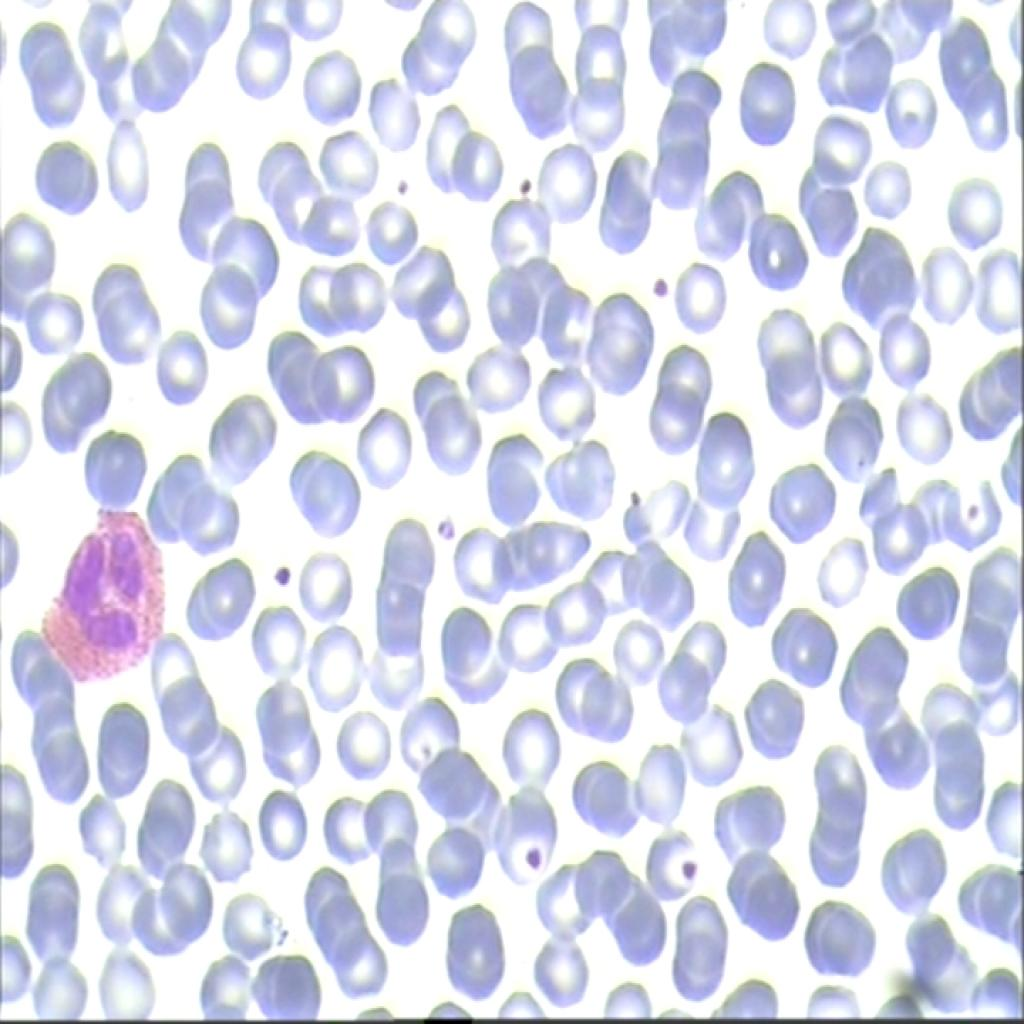Eosinofil: (47, 489, 172, 700)
Platelet: (428, 500, 471, 554), (269, 551, 304, 608), (505, 164, 549, 208), (382, 160, 412, 210), (676, 842, 701, 900), (644, 263, 677, 302), (516, 836, 540, 880)
